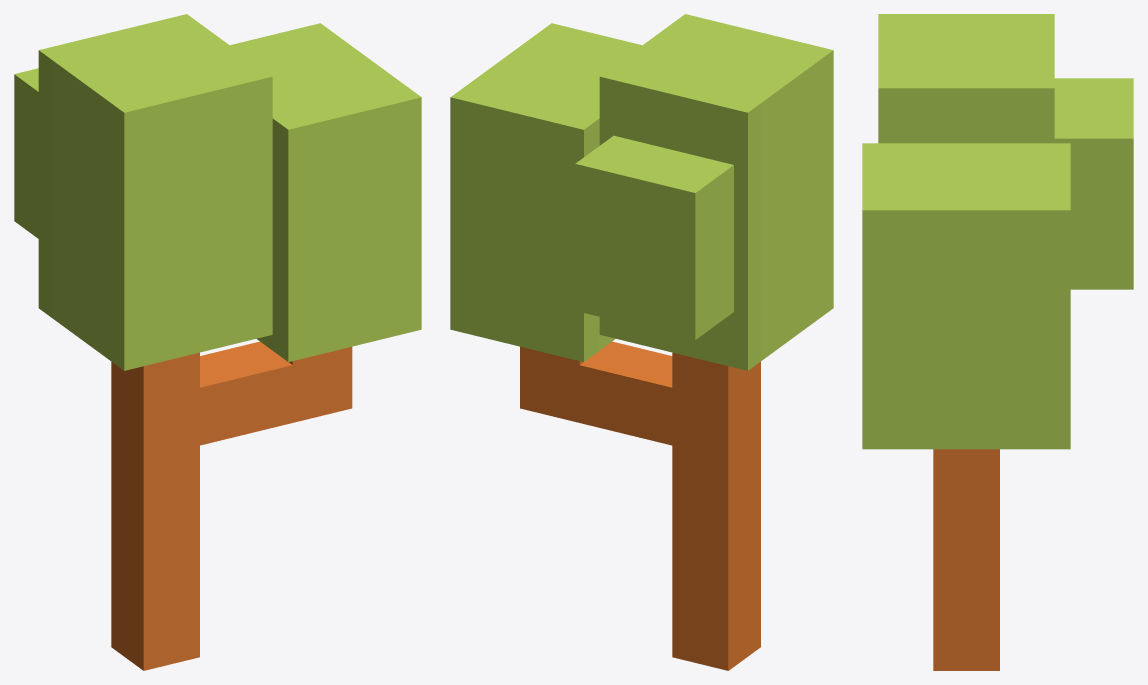
File: STADIUM_Tree_1_Mesh.fbx
3 renders of one model, left to right at view 1: azimuth 30°, elevation 25°; view 2: azimuth 150°, elevation 25°; view 3: azimuth 270°, elevation 25°, orthographic. The views are drawn at different scales.
Parts seen in each view (by area): view 1: STADIUM_Tree_1_Mesh; view 2: STADIUM_Tree_1_Mesh; view 3: STADIUM_Tree_1_Mesh.
Part boxes in pixels (x1,y1,x2,y2): STADIUM_Tree_1_Mesh: [14, 14, 421, 670]; STADIUM_Tree_1_Mesh: [450, 14, 833, 670]; STADIUM_Tree_1_Mesh: [862, 14, 1133, 670].
Size of the model in its own units: 27.78 by 53.97 by 21.91.
